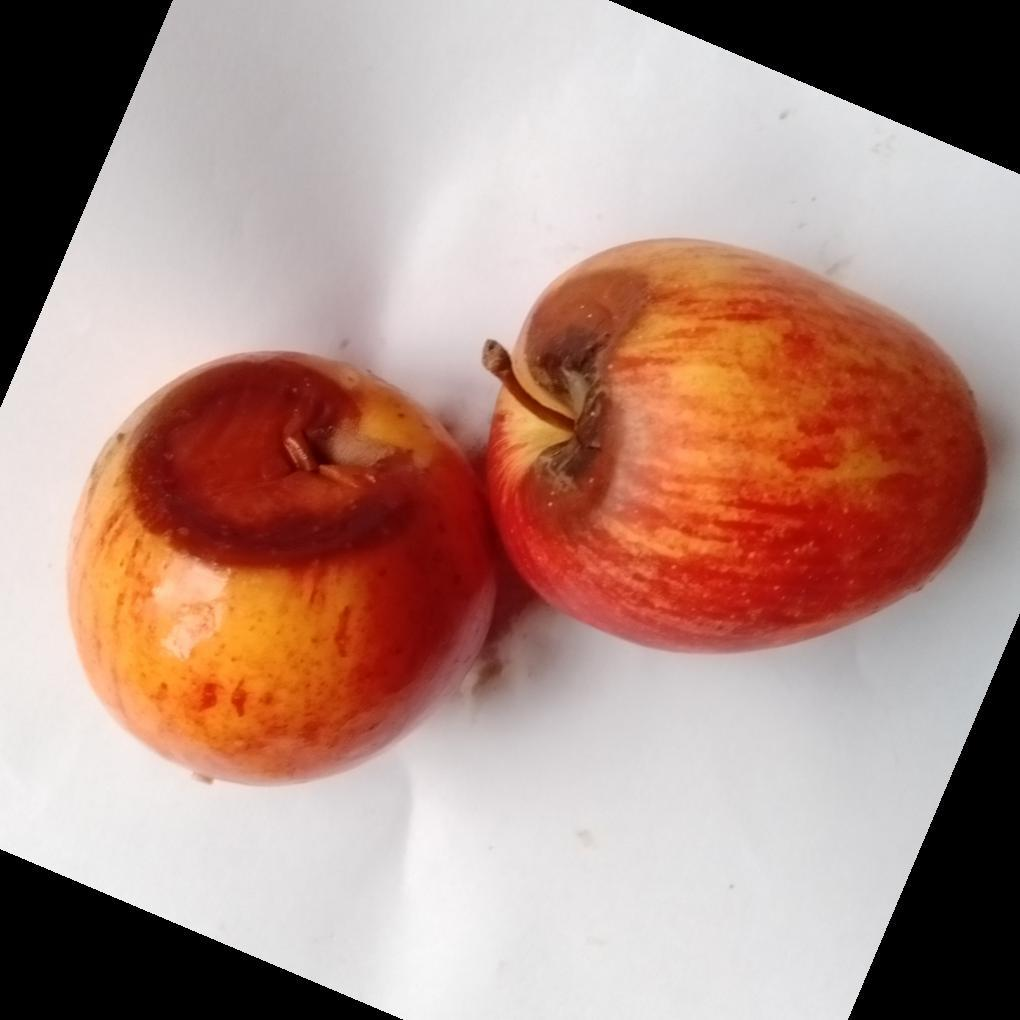FreshOrange: (67, 238, 990, 786)
